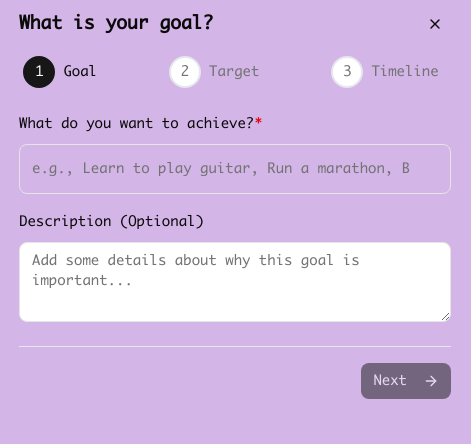
it: InlineGoalCreation - Goal Validation › Client-side validation › shows error for goals shorter than 10 characters
Type "short" into the field with placeholder "Learn to play guitar".
click(235, 169); type("short")  # box [19,144,451,194]
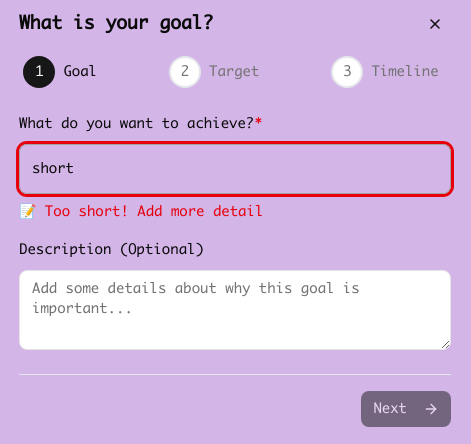
Expected: the button "Next" is disabled, [361,391,451,427]
Expected: the text "📝 Too short! Add more detail" is shown, [19,205,263,219]
